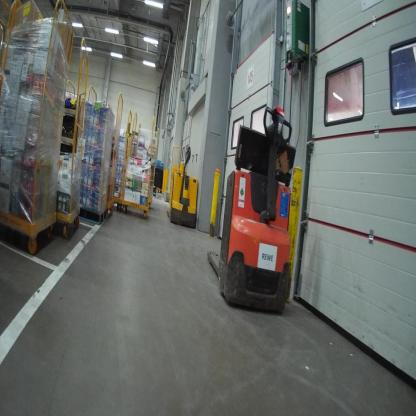pallet_truck: (196, 100, 304, 327), (165, 140, 200, 233)
